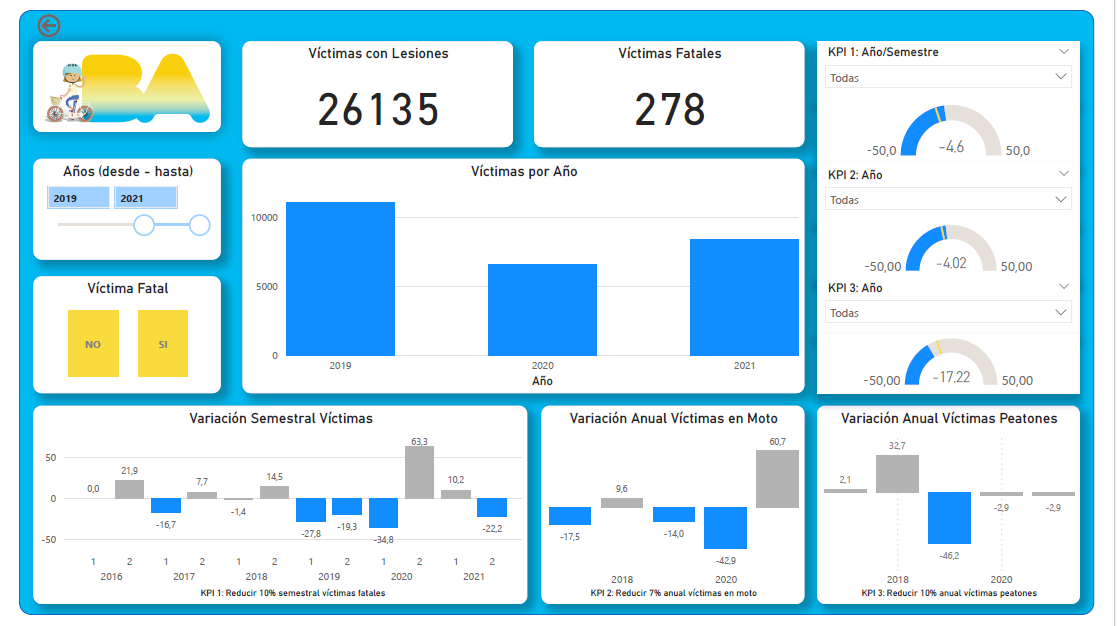

Layout of this report page (visuals, bound fields, positions):
{"tool":"powerbi","page":{"name":"Página 3","canvas":[1280,720],"ordinal":2},"visuals":[{"type":"shape","box":[0,0,1280.2,720],"z":0},{"type":"card","title":"Víctimas con Lesiones","fields":{"Values":["Sum(siniestrosEDA.VICTIMAS)"]},"box":[266.4,37.4,321.1,125.3],"z":1000},{"type":"card","title":"Víctimas Fatales","fields":{"Values":["Sum(siniestrosEDA.FATAL)"]},"box":[613.4,37.4,321.1,125.3],"z":2000},{"type":"slicer","title":"Años (desde - hasta)","fields":{"Values":["siniestrosEDA.FECHA.Variación.Jerarquía de fechas.Año"]},"box":[17.3,177.1,223.2,119.5],"z":3000},{"type":"slicer","title":"Víctima Fatal","fields":{"Values":["siniestrosEDA.FATAL - Copia"]},"box":[17.3,316.8,223.2,139.7],"z":4000},{"type":"clusteredColumnChart","title":"Víctimas por Año","fields":{"Category":["siniestrosEDA.FECHA.Variación.Jerarquía de fechas.Año"],"Y":["Sum(siniestrosEDA.VICTIMAS)"]},"box":[266.4,177.1,668.2,279.4],"z":5000},{"type":"clusteredColumnChart","title":"Variación Anual Víctimas Peatones","fields":{"Category":["kpi_3.A"],"Y":["Sum(kpi_3.VARIACION)"]},"box":[950.4,470.9,312.5,236.2],"z":6000},{"type":"clusteredColumnChart","title":"Variación Anual Víctimas en Moto","fields":{"Category":["kpi_2.A"],"Y":["Sum(kpi_2.VARIACION)"]},"box":[622.1,470.9,312.5,236.2],"z":7000},{"type":"columnChart","title":"Variación Semestral Víctimas","fields":{"Category":["kpi_1.Fecha1.Variación.Jerarquía de fechas.Año","kpi_1.SEMESTRE"],"Y":["Sum(kpi_1.VARIACION)"]},"box":[17.3,470.9,587.5,236.2],"z":8000},{"type":"slicer","fields":{"Values":["kpi_1.A","kpi_1.SEMESTRE"]},"box":[950.4,37.4,312.5,70.6],"z":9000},{"type":"gauge","fields":{"Y":["Sum(kpi_1.VARIACION)"]},"box":[950.4,108,312.5,74.9],"z":10000},{"type":"slicer","fields":{"Values":["kpi_2.A"]},"box":[950.4,182.9,312.5,67.7],"z":11000},{"type":"gauge","fields":{"Y":["Sum(kpi_2.VARIACION)"]},"box":[950.4,250.6,312.5,69.1],"z":12000},{"type":"slicer","fields":{"Values":["kpi_3.A"]},"box":[950.4,316.8,312.5,69.1],"z":13000},{"type":"gauge","fields":{"Y":["Sum(kpi_3.VARIACION)"]},"box":[950.4,385.9,312.5,70.6],"z":14000},{"type":"image","box":[17.3,37.4,223.2,108],"z":15000},{"type":"actionButton","box":[17.3,0,50.4,37.4],"z":16000}]}

Visuals, with their boxes in screenshot pixels (x1, y1, x2, y2), scaled from the page's 1280x720 canvas onto the 1117x626 screenshot:
shape: bbox(0, 0, 1116, 625)
"Víctimas con Lesiones" card: bbox(232, 33, 513, 141)
"Víctimas Fatales" card: bbox(535, 33, 815, 141)
"Años (desde - hasta)" slicer: bbox(15, 154, 210, 258)
"Víctima Fatal" slicer: bbox(15, 275, 210, 397)
"Víctimas por Año" clusteredColumnChart: bbox(232, 154, 816, 397)
"Variación Anual Víctimas Peatones" clusteredColumnChart: bbox(829, 409, 1102, 615)
"Variación Anual Víctimas en Moto" clusteredColumnChart: bbox(543, 409, 816, 615)
"Variación Semestral Víctimas" columnChart: bbox(15, 409, 528, 615)
slicer - kpi_1.A x kpi_1.SEMESTRE: bbox(829, 33, 1102, 94)
gauge - Sum(kpi_1.VARIACION): bbox(829, 94, 1102, 159)
slicer - kpi_2.A: bbox(829, 159, 1102, 218)
gauge - Sum(kpi_2.VARIACION): bbox(829, 218, 1102, 278)
slicer - kpi_3.A: bbox(829, 275, 1102, 336)
gauge - Sum(kpi_3.VARIACION): bbox(829, 336, 1102, 397)
image: bbox(15, 33, 210, 126)
actionButton: bbox(15, 0, 59, 33)
